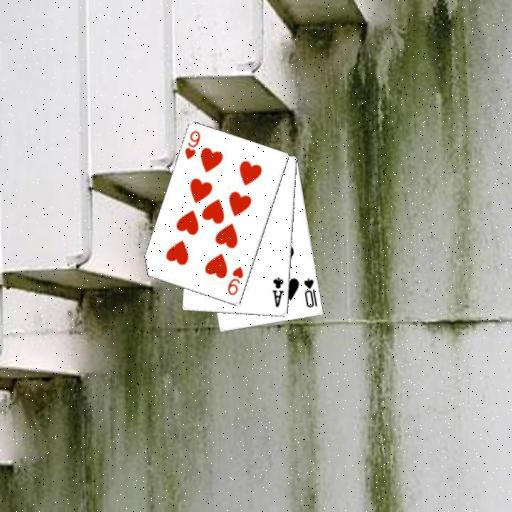10S: (301, 276, 319, 310)
9H: (225, 264, 245, 298), (182, 128, 202, 162)
AC: (270, 275, 286, 309)
